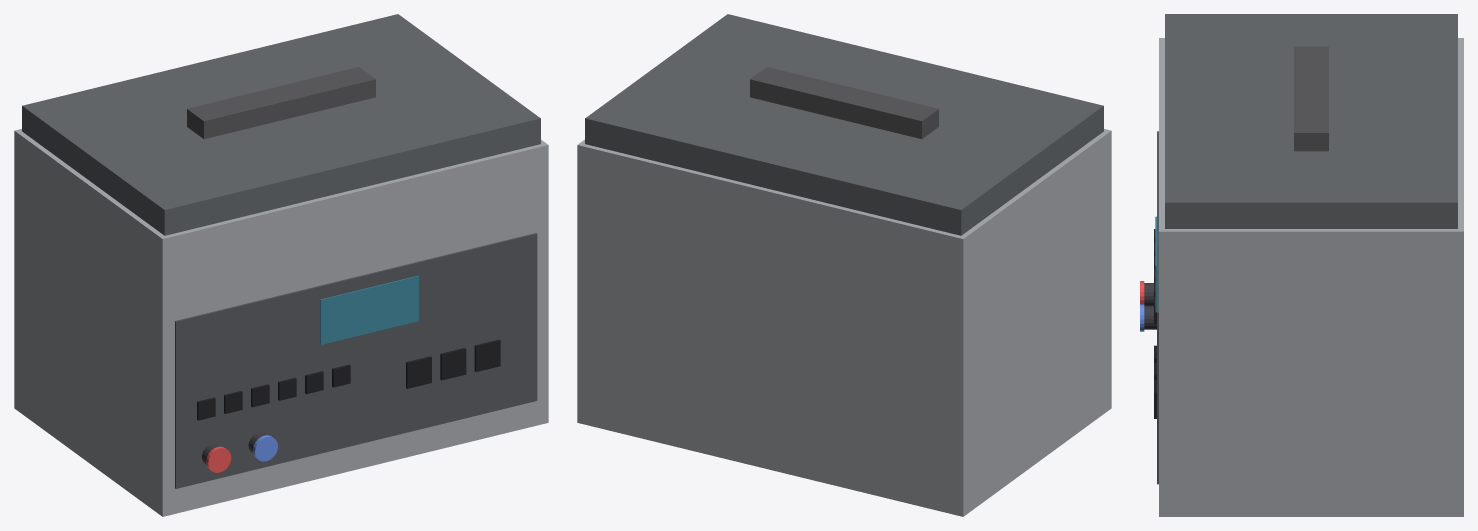
File: bluetti-ac70.glb
3 views of the same model, side by side, from view 1: azimuth 30°, elevation 25°; view 2: azimuth 150°, elevation 25°; view 3: azimuth 270°, elevation 25° (orthographic). The views are drawn at different scales.
Visible parts, largest first — view 1: body, top, panel, handle, screen, ports; view 2: body, top, handle; view 3: body, top, handle, panel, ports.
Boxes of the visible parts, <box> form: body: <box>14,129,548,516</box>; top: <box>22,14,540,235</box>; panel: <box>175,233,537,488</box>; handle: <box>187,67,375,139</box>; screen: <box>320,275,418,344</box>; ports: <box>197,339,500,420</box>; body: <box>577,129,1111,516</box>; top: <box>585,14,1103,235</box>; handle: <box>750,67,938,139</box>; body: <box>1159,38,1463,516</box>; top: <box>1165,14,1457,228</box>; handle: <box>1294,46,1328,151</box>; panel: <box>1157,131,1158,484</box>; ports: <box>1154,229,1156,418</box>.
Bounding box in the file's own units: 0.314 × 0.253 × 0.222.
